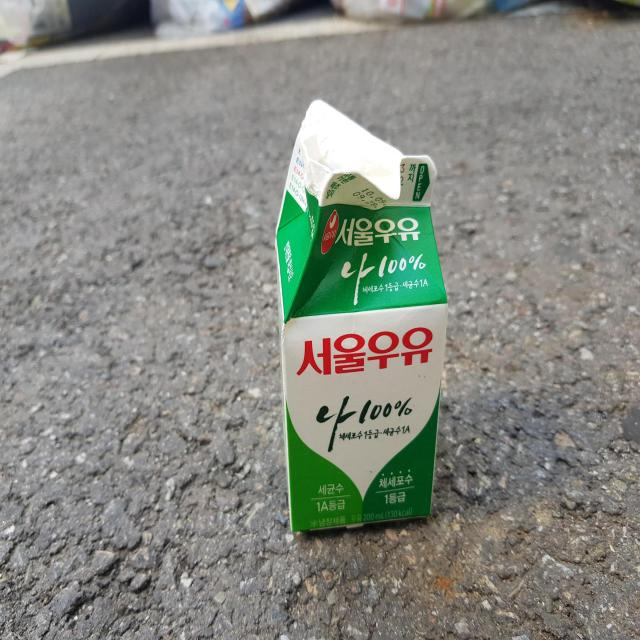paperpack: (276, 99, 448, 531)
